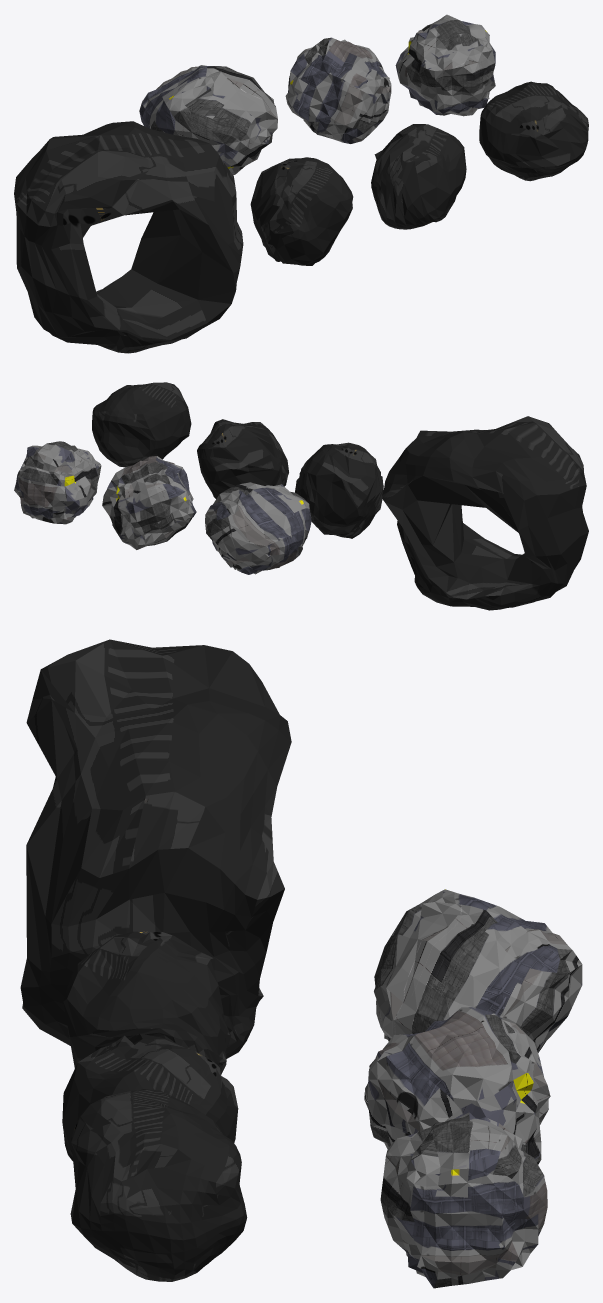
3 views of the same model, one above another, from view 1: azimuth 30°, elevation 25°; view 2: azimuth 150°, elevation 25°; view 3: azimuth 270°, elevation 25° (orthographic). The views are drawn at different scales.
Parts seen in each view (by area): view 1: normal_1_1, Ice_1_2, Normal_3, Ice_1, normal_1, normal_2, Ice_1_3; view 2: normal_1_1, Ice_1_2, normal_1, Normal_3, Ice_1, Ice_1_3, normal_2; view 3: normal_1_1, normal_1, Ice_1_2, Ice_1_3, Ice_1, Normal_3, normal_2.
Part boxes in pixels (x1=…): normal_1_1: x1=14, y1=121, x2=243, y2=353; Ice_1_2: x1=139, y1=65, x2=277, y2=175; Normal_3: x1=250, y1=157, x2=353, y2=265; Ice_1: x1=285, y1=37, x2=391, y2=143; normal_1: x1=479, y1=81, x2=588, y2=181; normal_2: x1=371, y1=124, x2=466, y2=229; Ice_1_3: x1=395, y1=14, x2=495, y2=116; normal_1_1: x1=382, y1=416, x2=588, y2=610; Ice_1_2: x1=205, y1=482, x2=311, y2=574; normal_1: x1=92, y1=382, x2=191, y2=467; Normal_3: x1=295, y1=442, x2=383, y2=538; Ice_1: x1=102, y1=456, x2=196, y2=549; Ice_1_3: x1=14, y1=441, x2=101, y2=524; normal_2: x1=197, y1=419, x2=288, y2=498; normal_1_1: x1=20, y1=639, x2=291, y2=1058; normal_1: x1=70, y1=1089, x2=247, y2=1281; Ice_1_2: x1=374, y1=889, x2=582, y2=1052; Ice_1_3: x1=380, y1=1112, x2=547, y2=1288; Ice_1: x1=364, y1=1007, x2=550, y2=1164; Normal_3: x1=63, y1=931, x2=230, y2=1074; normal_2: x1=62, y1=1033, x2=238, y2=1161.
Bounding box in the file's own units: 3337 × 1225 × 1681.
